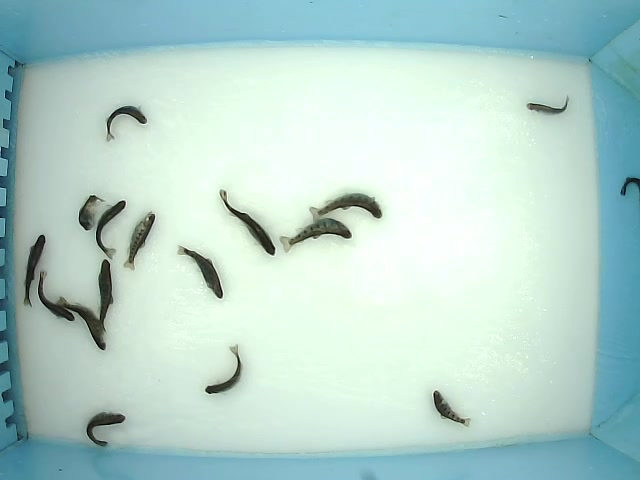fish: (218, 188, 276, 258), (53, 294, 107, 351), (279, 218, 353, 255), (177, 244, 224, 300), (308, 192, 384, 223), (37, 269, 76, 322), (204, 343, 243, 395), (123, 210, 156, 271), (95, 199, 126, 261), (23, 234, 47, 309), (104, 103, 148, 142), (85, 409, 126, 448), (432, 389, 471, 428), (97, 259, 115, 334), (78, 194, 107, 232), (525, 93, 570, 116)
